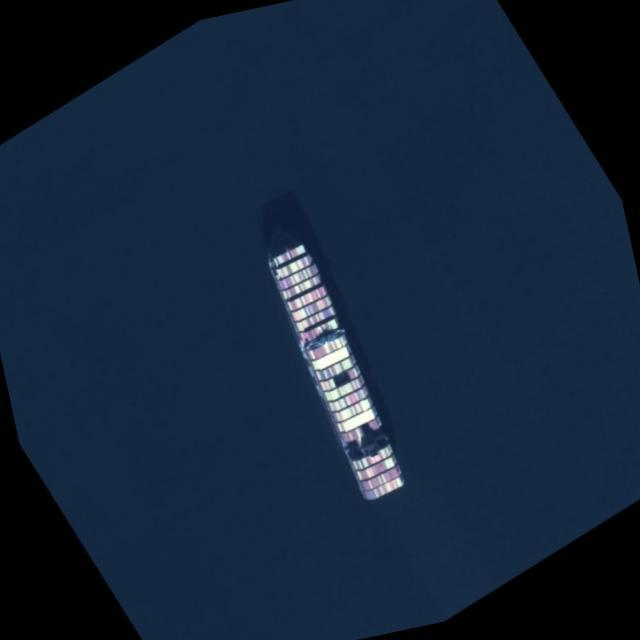ship: (270, 227, 404, 504)
